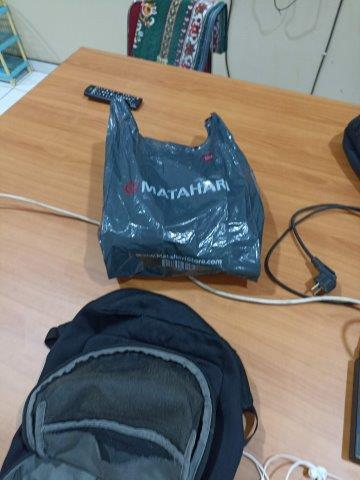plastik: (98, 92, 264, 280)
